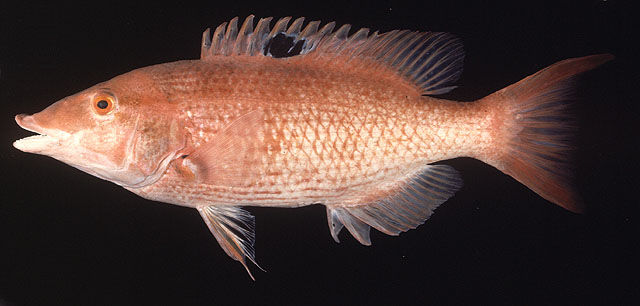fish: (14, 16, 607, 282)
